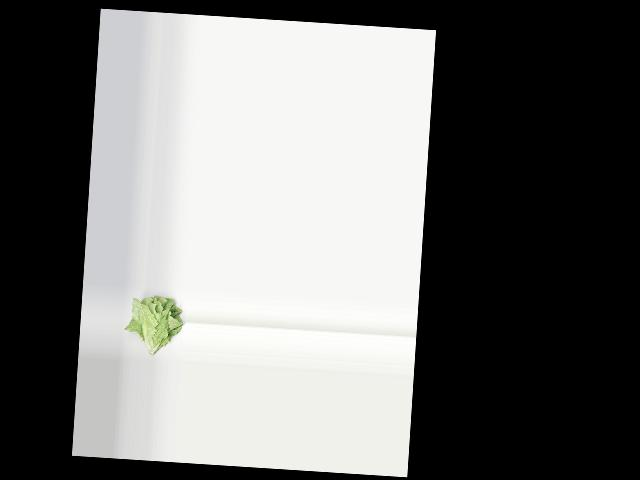lettuce: (128, 290, 184, 359)
